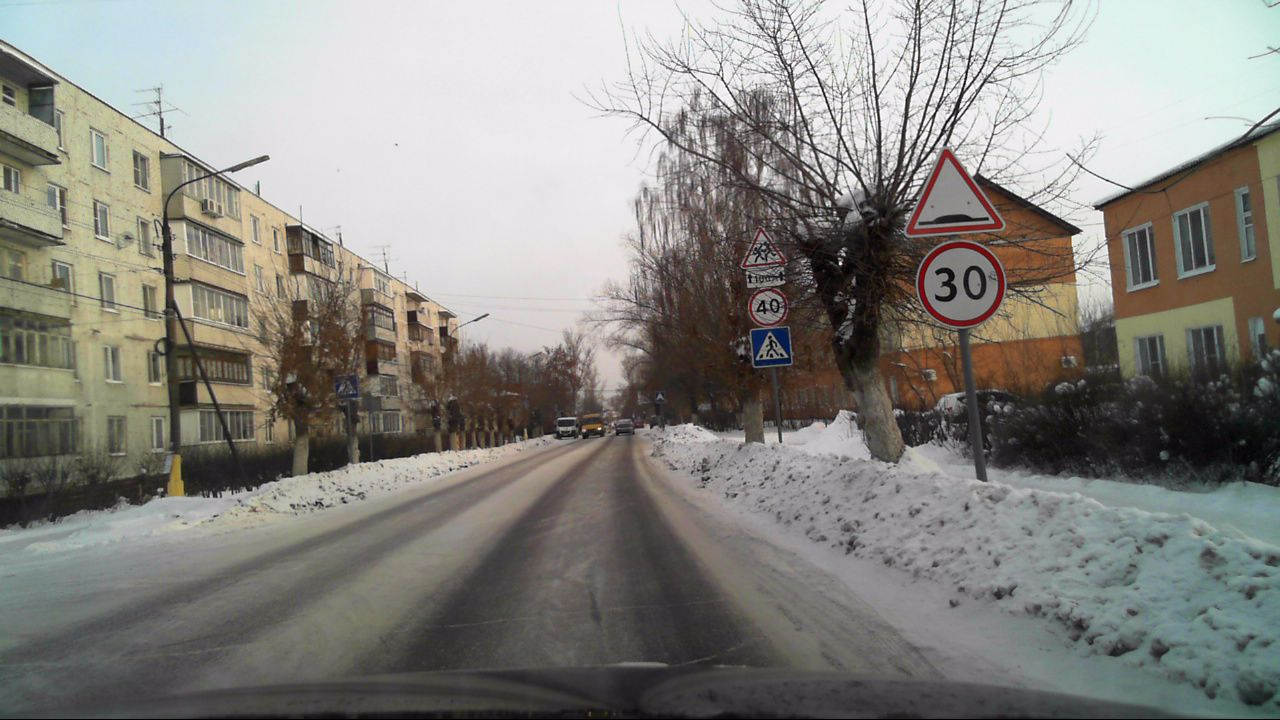speed_warning_40: (749, 288, 788, 326)
